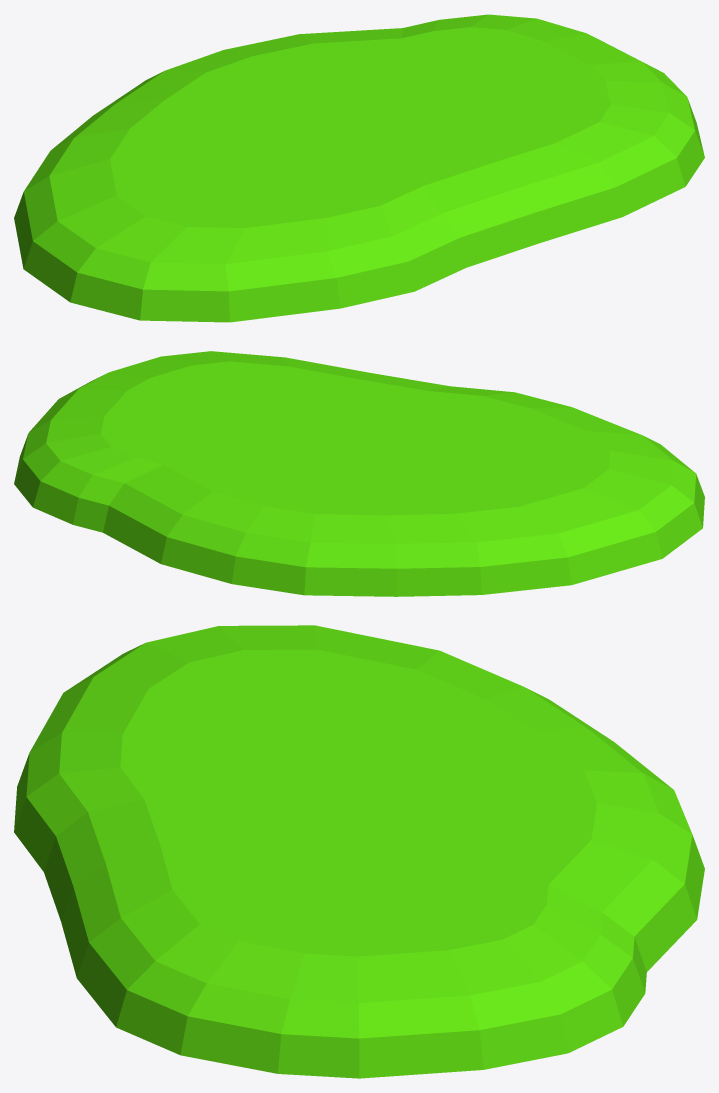
File: GrassPlane_1.fbx
The picture shows the model from 3 angles, top to bottom: view 1: azimuth 30°, elevation 25°; view 2: azimuth 150°, elevation 25°; view 3: azimuth 270°, elevation 25°; orthographic projection. The views are drawn at different scales.
Parts seen in each view (by area): view 1: GrassPlane_1; view 2: GrassPlane_1; view 3: GrassPlane_1.
Boxes of the visible parts, x1,y1,x2,y2 form: GrassPlane_1: (14, 14, 704, 322); GrassPlane_1: (14, 351, 704, 596); GrassPlane_1: (14, 625, 704, 1078).
Bounding box in the file's own units: 1.57 × 0.1222 × 1.1.
